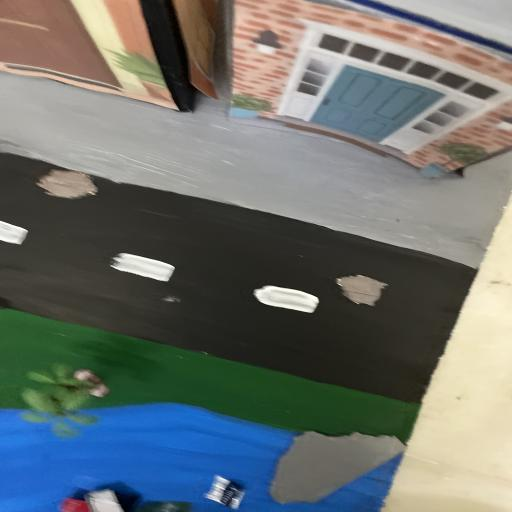porthole: (33, 169, 102, 202), (329, 271, 390, 307)
trash: (271, 431, 409, 507), (56, 471, 248, 512)
